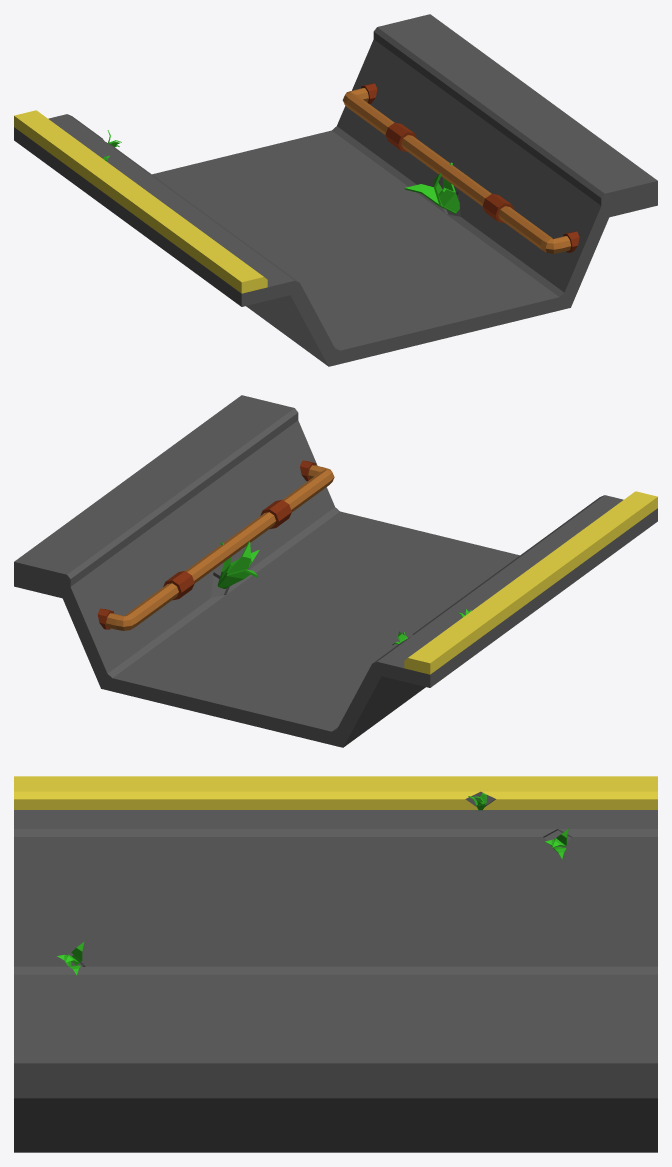
Rendered from ModuloPipeline.002.glb.
3 views of the same model, one above another, from view 1: azimuth 30°, elevation 25°; view 2: azimuth 150°, elevation 25°; view 3: azimuth 270°, elevation 25° (orthographic). The views are drawn at different scales.
Parts seen in each view (by area): view 1: Modulo.005; view 2: Modulo.005; view 3: Modulo.005.
Part boxes in pixels (<box>): Modulo.005: <box>14,14,657,366</box>; Modulo.005: <box>14,395,657,747</box>; Modulo.005: <box>14,776,657,1152</box>.
Bounding box in the file's own units: 32.52 × 7.9 × 30.82.
